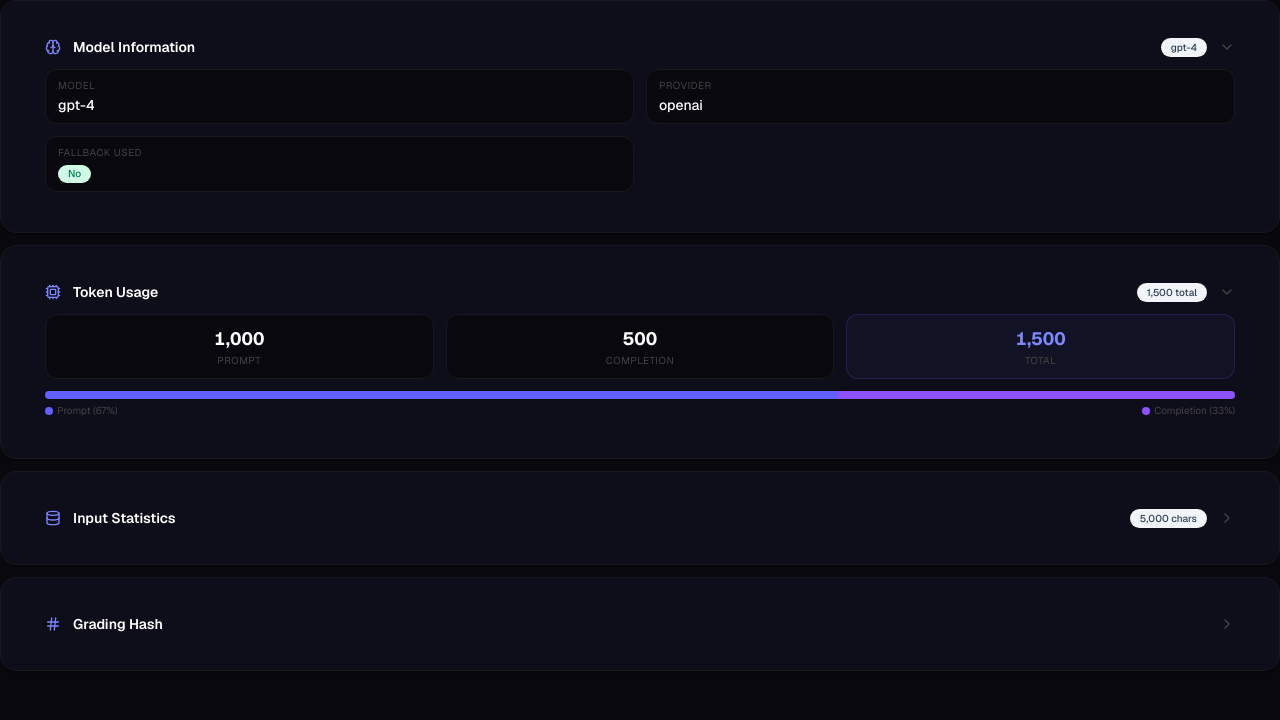
TransparencyVault › shows grading hash after expanding section
Click the button "Grading Hash" at (118, 624), box [25, 602, 1255, 646]
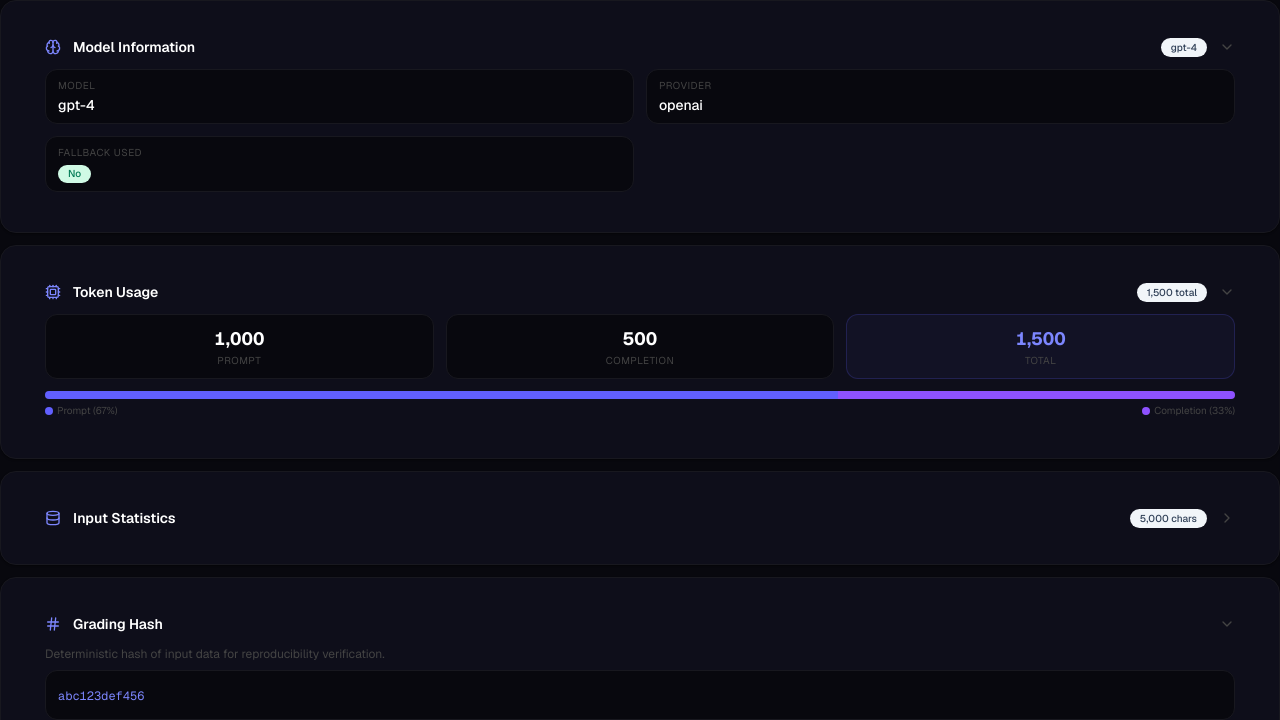
Check: the text "abc123def456" is shown, box [58, 688, 144, 704]
